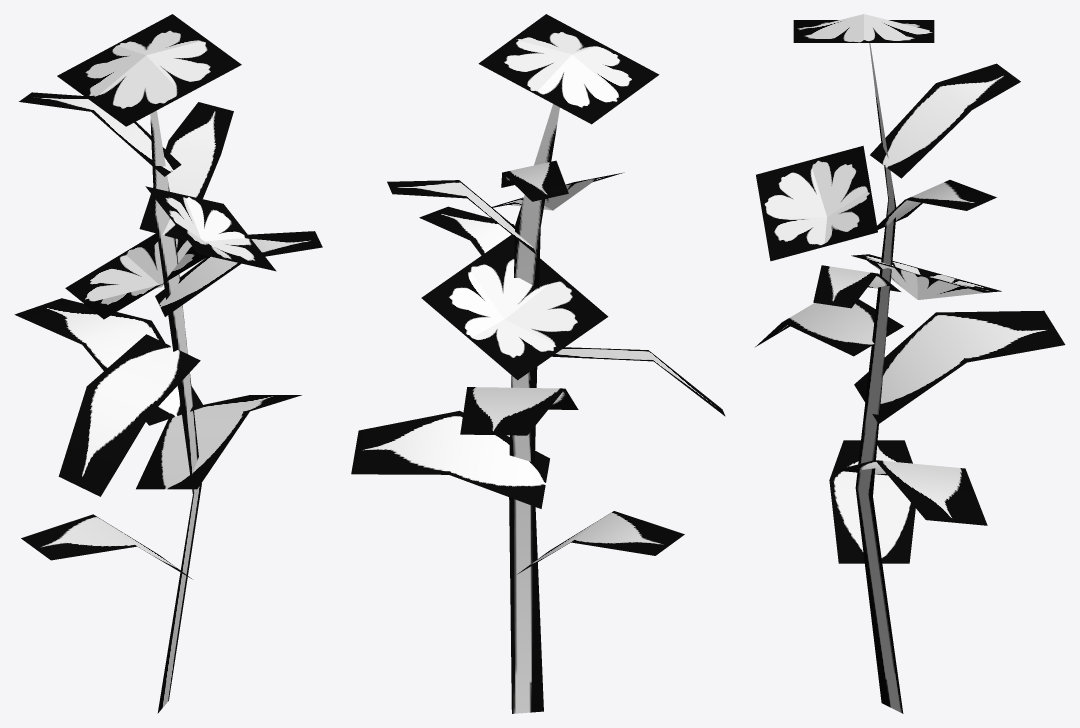
File: Plant2.fbx
The picture shows the model from 3 angles, left to right: view 1: azimuth 30°, elevation 25°; view 2: azimuth 150°, elevation 25°; view 3: azimuth 270°, elevation 25°; orthographic projection. The views are drawn at different scales.
Visible parts, largest first — view 1: Plant2; view 2: Plant2; view 3: Plant2.
Part boxes in pixels (x1,y1,x2,y2): Plant2: (14, 14, 322, 713); Plant2: (351, 14, 725, 713); Plant2: (755, 14, 1065, 713).
Size of the model in its own units: 29.24 by 60.48 by 25.07.
Materials: 1 (1 with a texture image).
